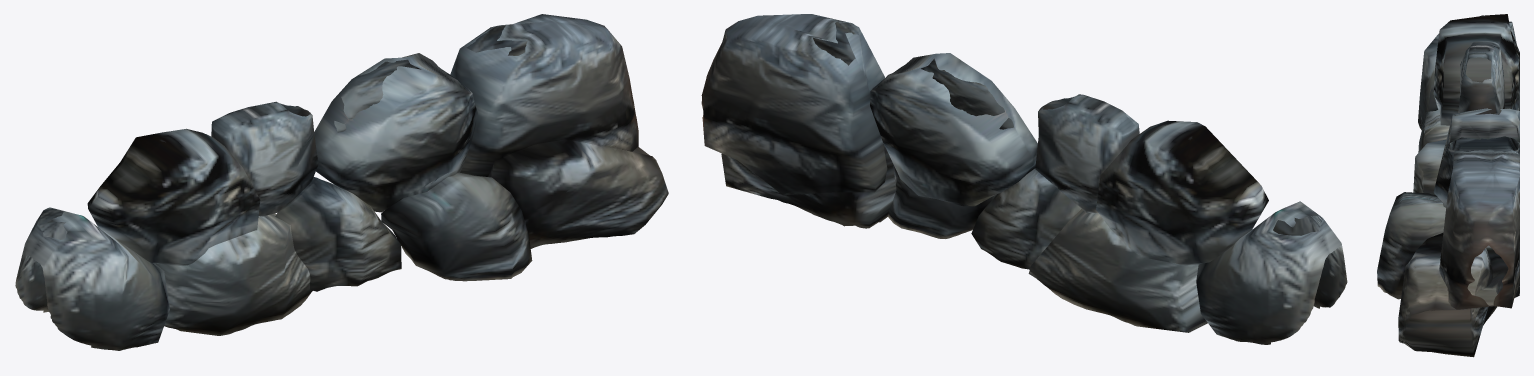
The model's file is garbage_bag_pile.FBX.
3 renders of one model, left to right at view 1: azimuth 30°, elevation 25°; view 2: azimuth 150°, elevation 25°; view 3: azimuth 270°, elevation 25°, orthographic. The views are drawn at different scales.
Parts seen in each view (by area): view 1: garbage_bag_pile; view 2: garbage_bag_pile; view 3: garbage_bag_pile.
Boxes of the visible parts, x1,y1,x2,y2 form: garbage_bag_pile: (15,14,668,350); garbage_bag_pile: (701,14,1347,344); garbage_bag_pile: (1377,14,1519,357).
Bounding box in the file's own units: 190 × 57.99 × 42.94.
